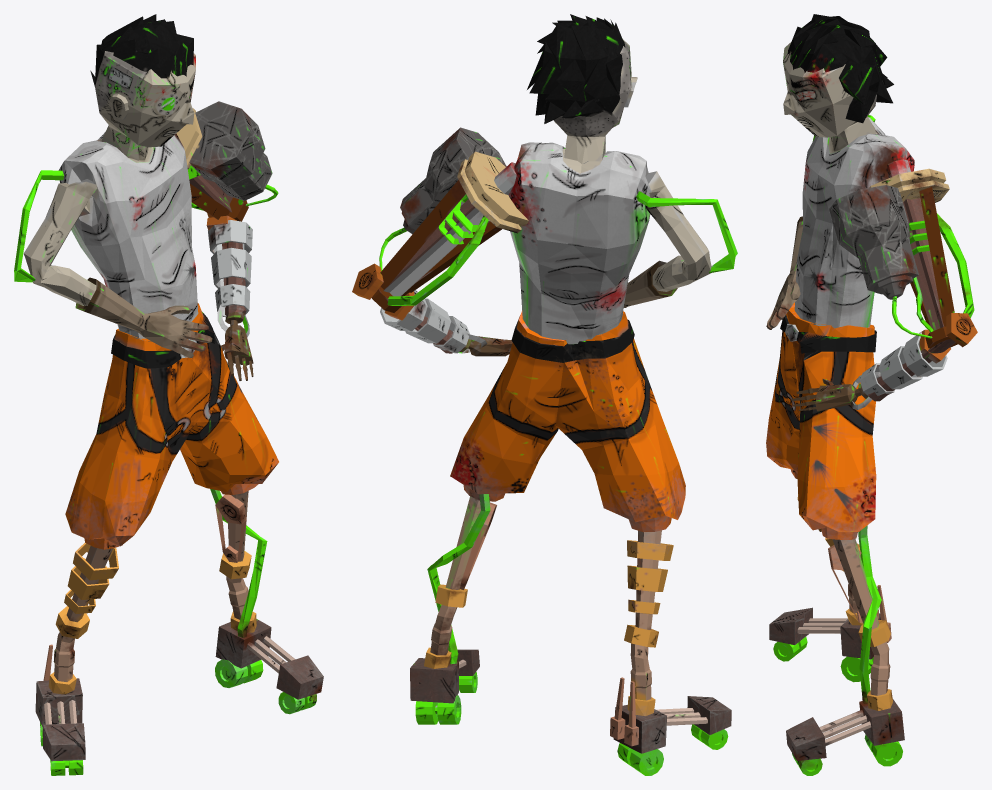
The model's file is CyborgFINALAnimation_000006.obj.
3 views of the same model, side by side, from view 1: azimuth 30°, elevation 25°; view 2: azimuth 150°, elevation 25°; view 3: azimuth 270°, elevation 25° (orthographic). The views are drawn at different scales.
Visible parts, largest first — view 1: CyborgMesh_Cube.002; view 2: CyborgMesh_Cube.002; view 3: CyborgMesh_Cube.002.
Part boxes in pixels (x1,y1,x2,y2): CyborgMesh_Cube.002: (14, 14, 323, 775); CyborgMesh_Cube.002: (352, 14, 737, 775); CyborgMesh_Cube.002: (766, 14, 977, 775).
Size of the model in its own units: 4.29 by 9.59 by 2.66.
